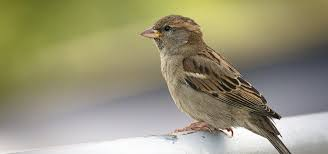hsparrow: (139, 13, 297, 154)
